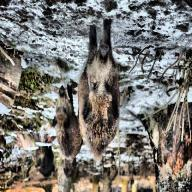boar: (79, 26, 124, 166), (51, 87, 81, 164)
